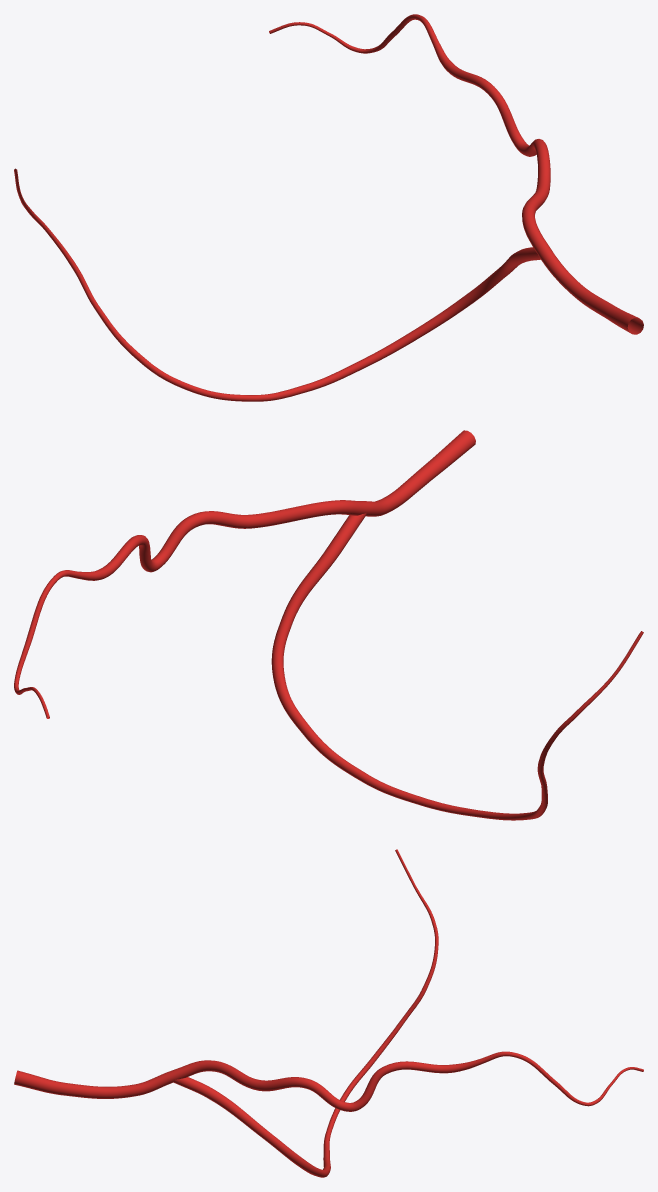
File: circulatorio-medial-occipital-artery-r.glb
The picture shows the model from 3 angles, top to bottom: view 1: azimuth 30°, elevation 25°; view 2: azimuth 150°, elevation 25°; view 3: azimuth 270°, elevation 25°; orthographic projection. The views are drawn at different scales.
Visible parts, largest first — view 1: Medial occipital artery.r, Lateral occipital artery.r; view 2: Medial occipital artery.r, Lateral occipital artery.r; view 3: Medial occipital artery.r, Lateral occipital artery.r.
Part boxes in pixels (x1,y1,x2,y2): Medial occipital artery.r: (269, 14, 643, 334); Lateral occipital artery.r: (14, 168, 540, 401); Medial occipital artery.r: (14, 430, 475, 718); Lateral occipital artery.r: (271, 513, 643, 820); Medial occipital artery.r: (14, 1051, 643, 1111); Lateral occipital artery.r: (173, 849, 438, 1177).
Bounding box in the file's own units: 0.051 × 0.0253 × 0.0689.
